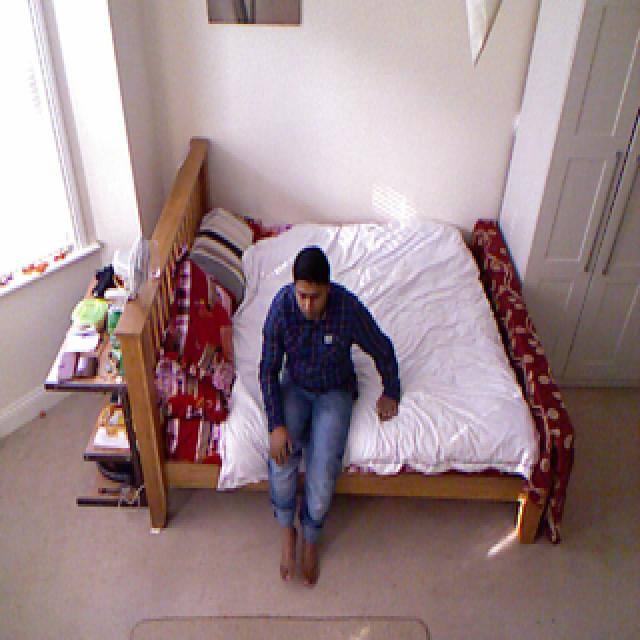sitting: (259, 239, 400, 594)
